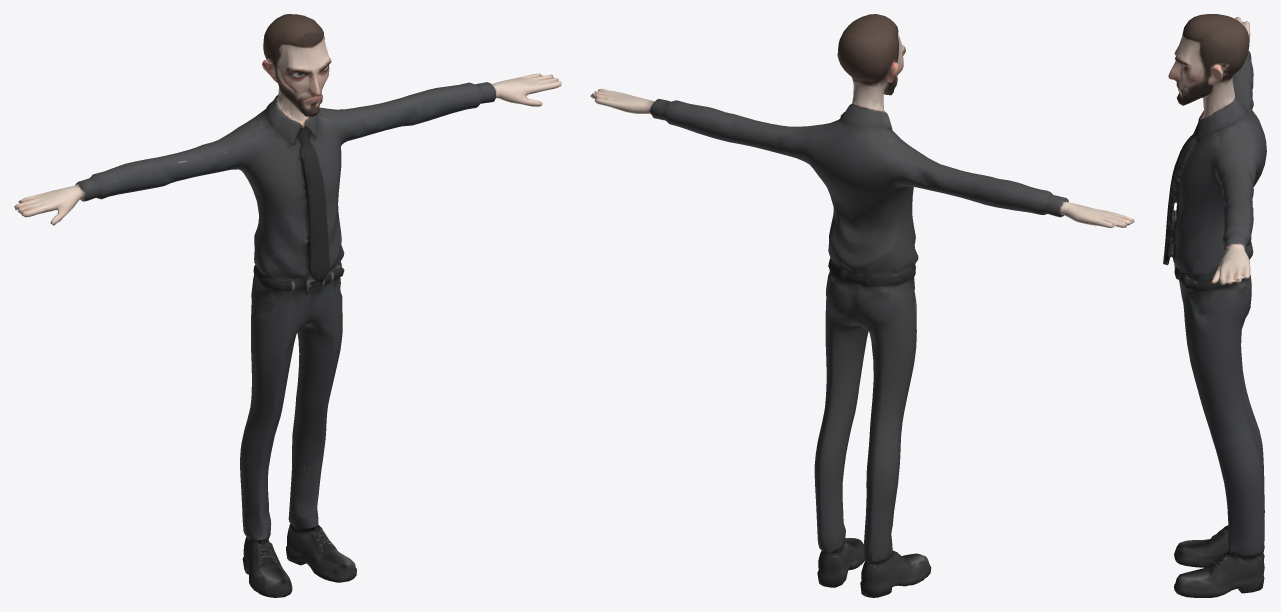
The model's file is CalisanErkek1.fbx.
The picture shows the model from 3 angles, left to right: view 1: azimuth 30°, elevation 25°; view 2: azimuth 150°, elevation 25°; view 3: azimuth 270°, elevation 25°; orthographic projection.
Visible parts, largest first — view 1: Mesh_0; view 2: Mesh_0; view 3: Mesh_0.
Boxes of the visible parts, x1,y1,x2,y2 form: Mesh_0: (14, 14, 561, 597); Mesh_0: (590, 14, 1134, 597); Mesh_0: (1163, 14, 1266, 597).
Bounding box in the file's own units: 191 × 189 × 31.77.
Materials: 1 (1 with a texture image).
